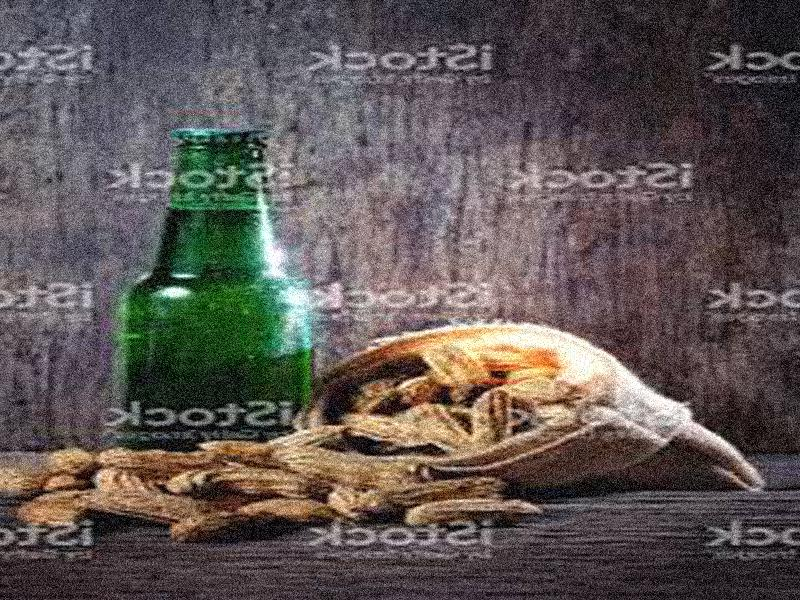Beer: (121, 124, 318, 473)
